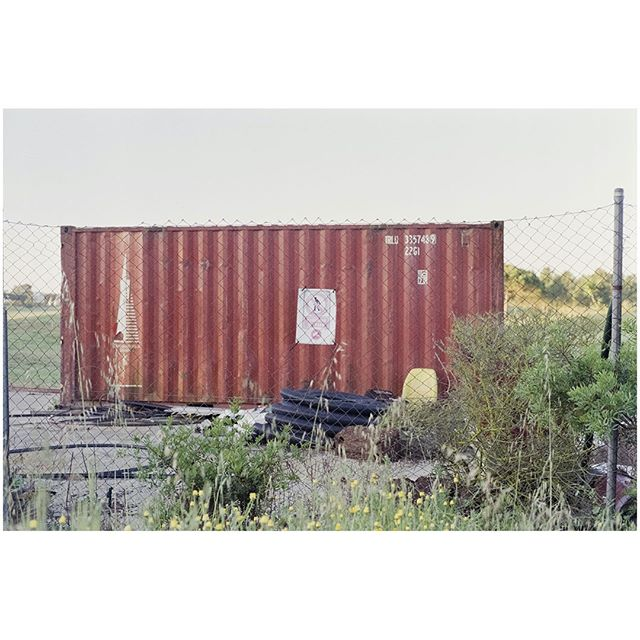container: (55, 214, 517, 411)
vegetation: (384, 310, 640, 526)
